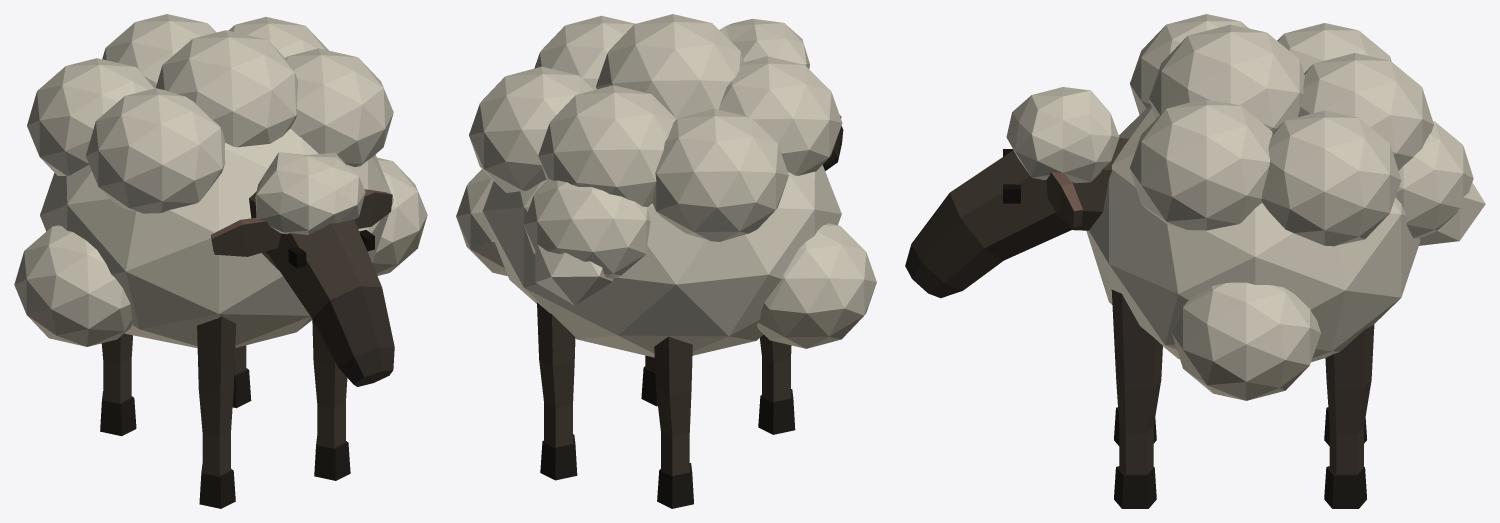
File: sheep.glb
The picture shows the model from 3 angles, left to right: view 1: azimuth 30°, elevation 25°; view 2: azimuth 150°, elevation 25°; view 3: azimuth 270°, elevation 25°; orthographic projection. The views are drawn at different scales.
Visible parts, largest first — view 1: sheep_body, sheep_head, sheep_leg_FR, sheep_leg_FL, sheep_leg_HR, sheep_leg_HL; view 2: sheep_body, sheep_leg_HR, sheep_leg_HL, sheep_head, sheep_leg_FR, sheep_leg_FL; view 3: sheep_body, sheep_head, sheep_leg_FL, sheep_leg_HL.
Boxes of the visible parts, x1=… form: sheep_body: x1=14, y1=14, x2=427, y2=348; sheep_head: x1=211, y1=152, x2=394, y2=386; sheep_leg_FR: x1=197, y1=316, x2=236, y2=508; sheep_leg_FL: x1=312, y1=319, x2=350, y2=480; sheep_leg_HR: x1=100, y1=333, x2=136, y2=436; sheep_leg_HL: x1=232, y1=345, x2=251, y2=408; sheep_body: x1=456, y1=14, x2=876, y2=357; sheep_leg_HR: x1=654, y1=336, x2=693, y2=508; sheep_leg_HL: x1=537, y1=302, x2=577, y2=480; sheep_head: x1=719, y1=18, x2=843, y2=170; sheep_leg_FR: x1=758, y1=334, x2=795, y2=434; sheep_leg_FL: x1=641, y1=355, x2=657, y2=406; sheep_body: x1=1086, y1=14, x2=1485, y2=400; sheep_head: x1=905, y1=87, x2=1128, y2=298; sheep_leg_FL: x1=1111, y1=290, x2=1162, y2=508; sheep_leg_HL: x1=1324, y1=324, x2=1374, y2=508.
Size of the model in its own units: 0.4201 by 0.4297 by 0.5136.
